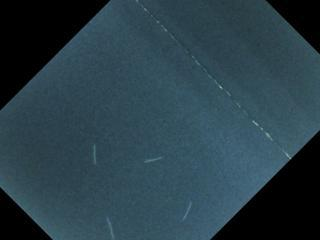crack: (137, 0, 291, 161)
scratch: (174, 194, 196, 231), (133, 145, 167, 168), (87, 140, 102, 170), (102, 213, 119, 239)
